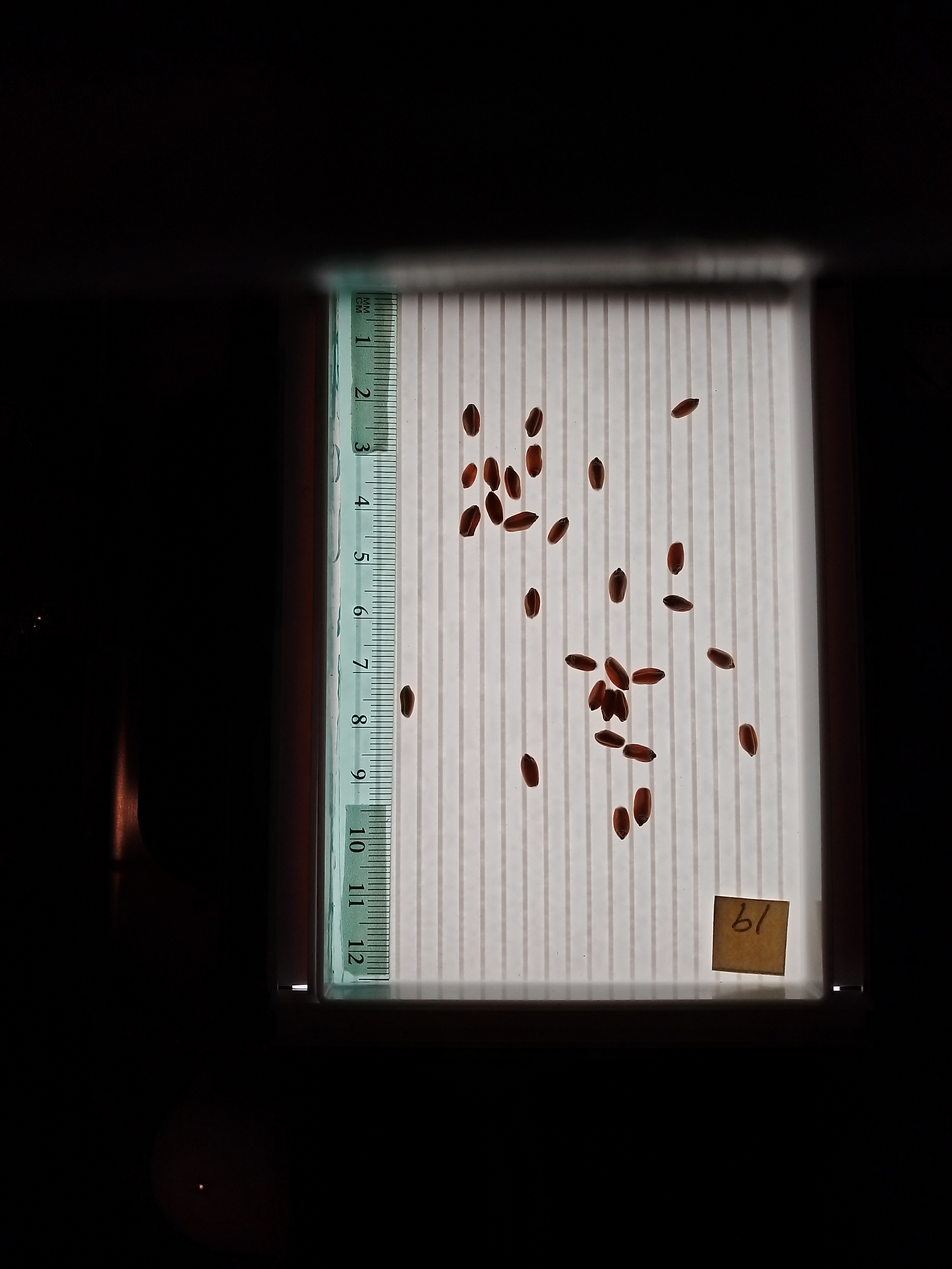seed mask: (602, 690, 628, 721), (605, 657, 629, 689), (633, 789, 652, 826), (504, 512, 537, 533), (608, 569, 627, 603), (624, 743, 655, 763), (739, 724, 758, 756), (460, 506, 480, 536), (708, 648, 735, 670), (521, 755, 539, 788), (548, 517, 569, 545), (613, 807, 631, 839), (526, 445, 543, 477), (667, 543, 684, 575), (566, 654, 596, 672), (462, 405, 479, 436), (588, 459, 605, 490), (486, 494, 503, 525), (633, 668, 664, 685), (525, 408, 543, 437), (663, 595, 692, 613), (672, 398, 698, 418), (505, 467, 521, 498), (589, 680, 605, 711), (602, 689, 618, 720), (484, 458, 499, 490), (400, 686, 415, 717), (524, 589, 540, 618), (596, 732, 624, 748), (462, 464, 477, 487)
